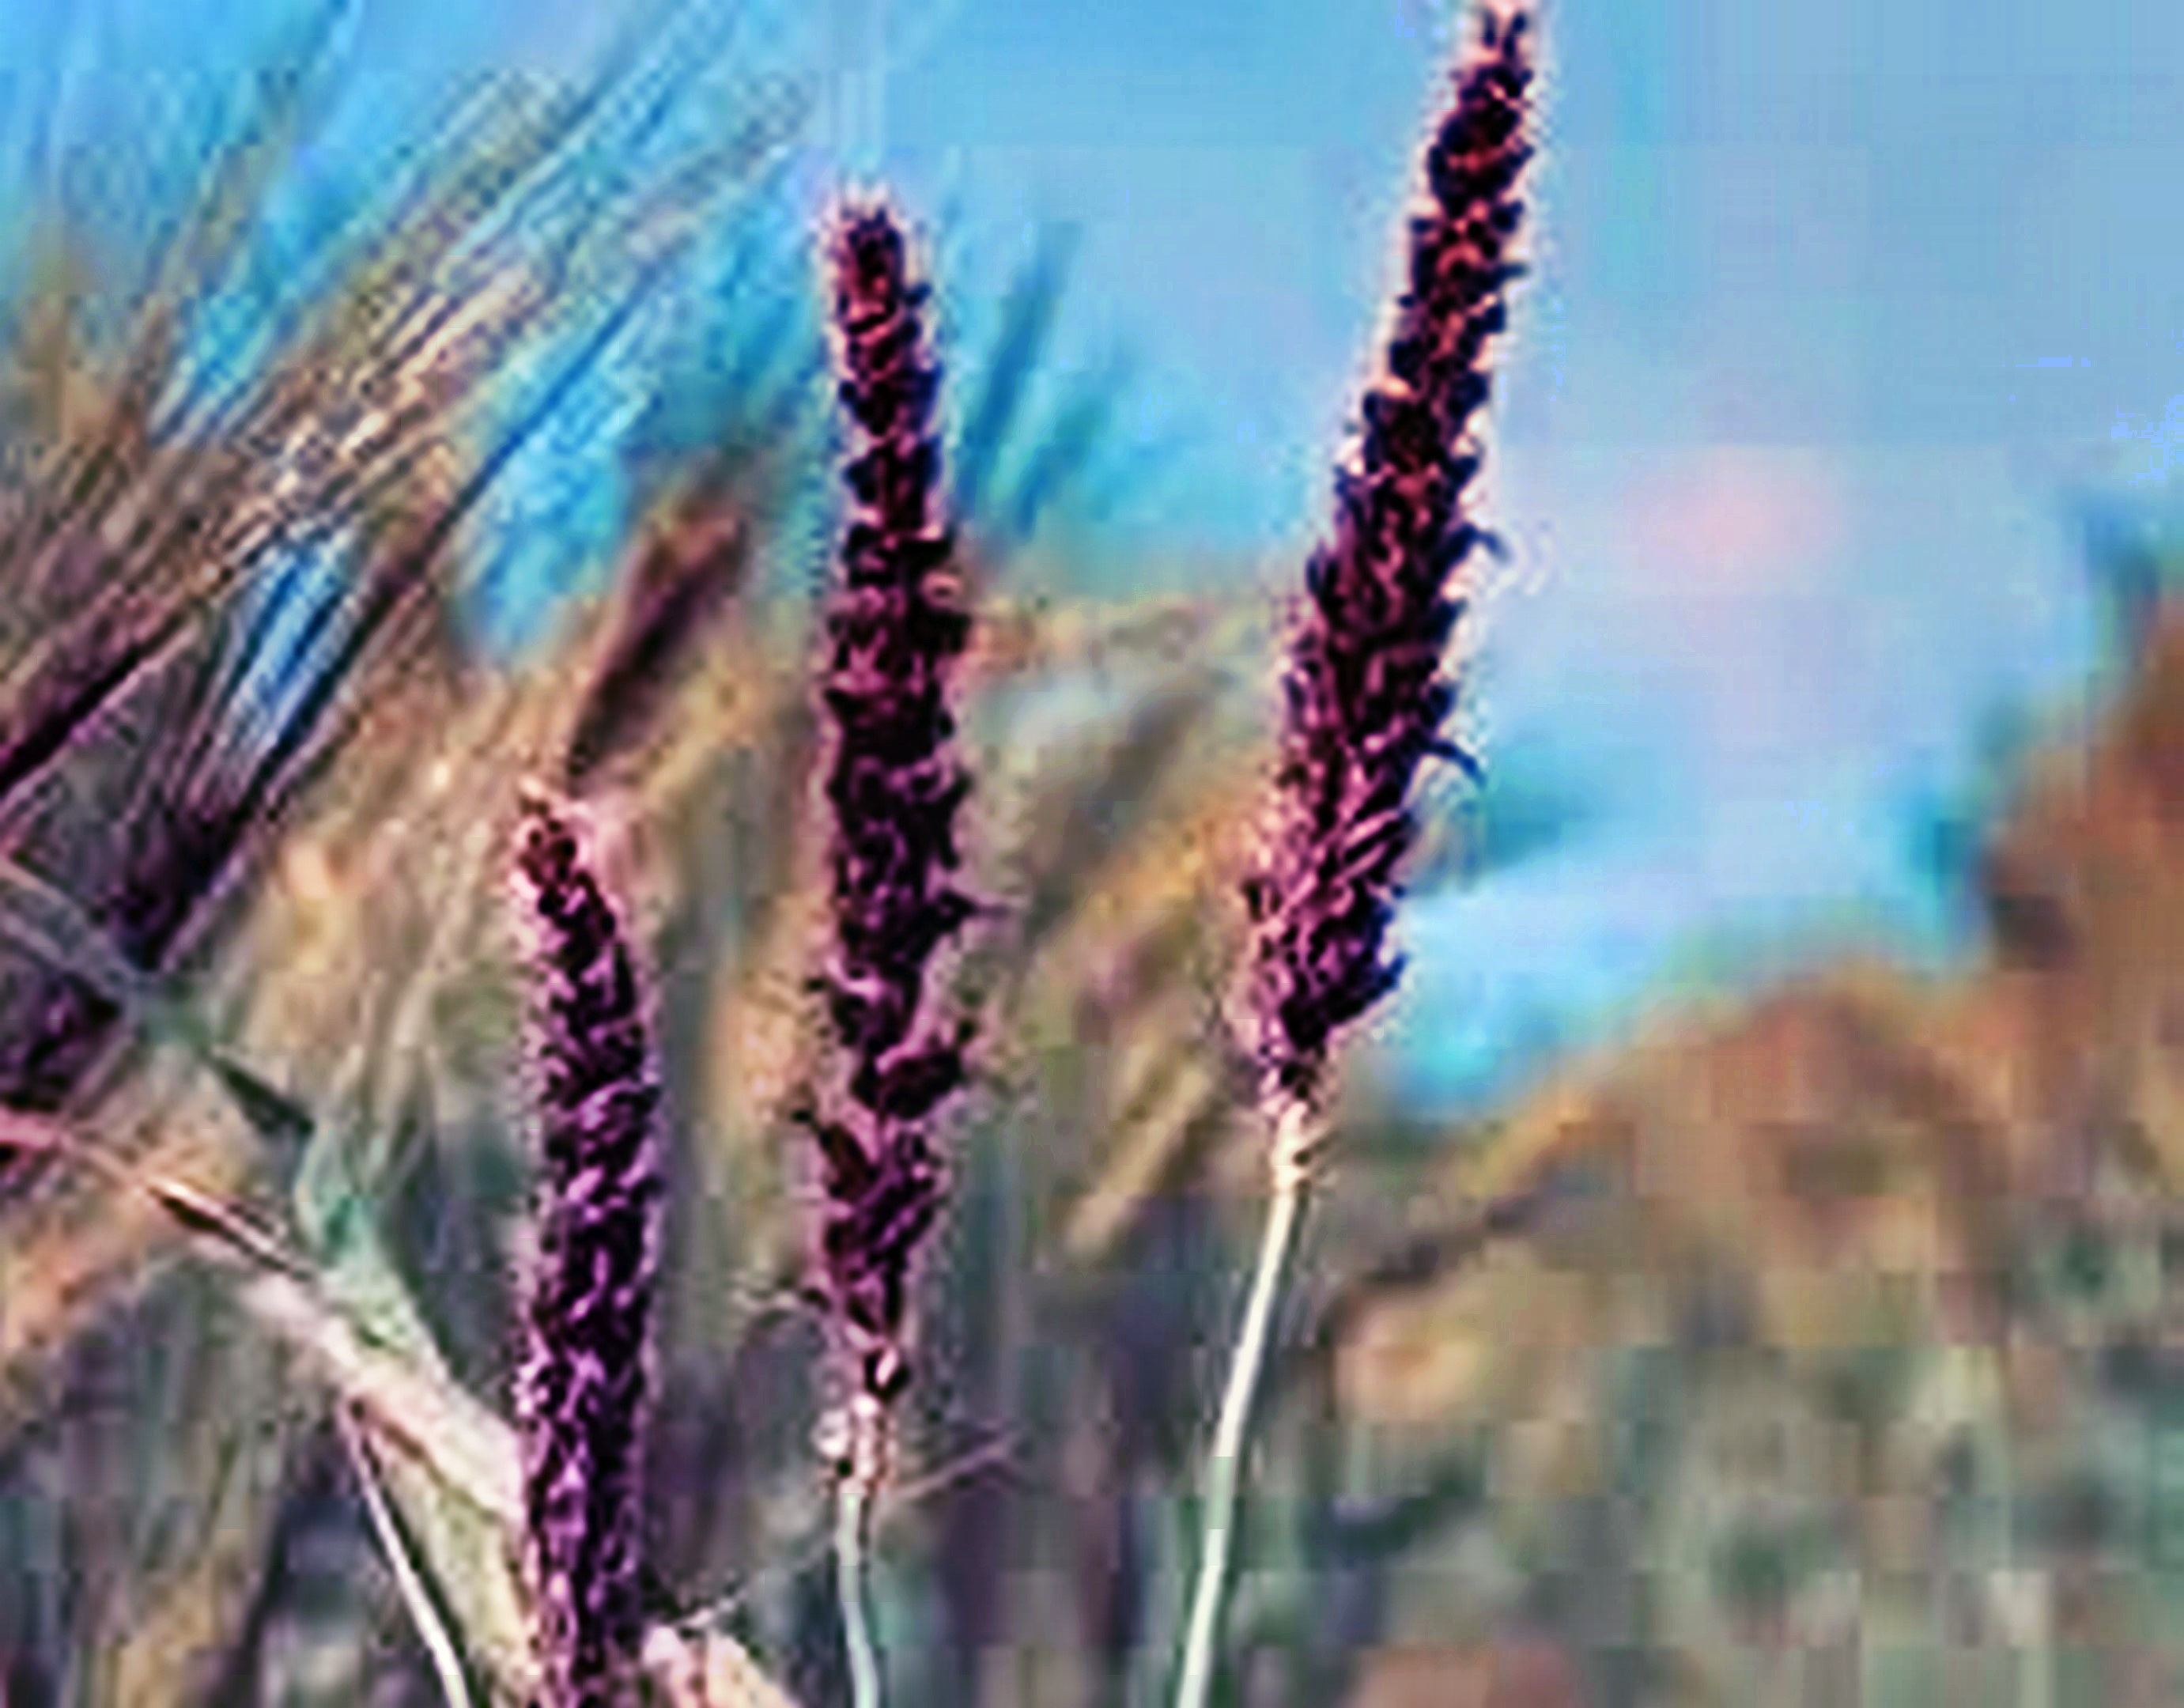Wheat Loose Smut: (1227, 18, 1647, 1071), (775, 181, 1014, 1410), (470, 800, 697, 1680)
